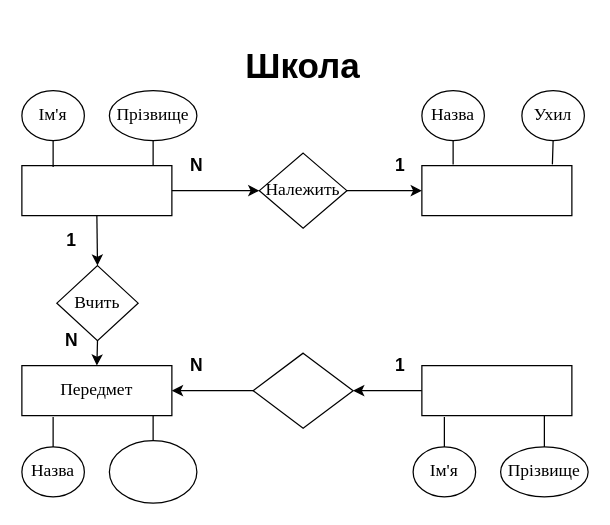
Image size: 610x525. Some labels were removed from this diagram. The centre of each missing label's shape, as x and y in pixels:
Викладач: the point at 496,390
Викладає: the point at 302,390
К-сть кредитів: the point at 152,471
Клас: the point at 496,190
Учень: the point at 96,190
